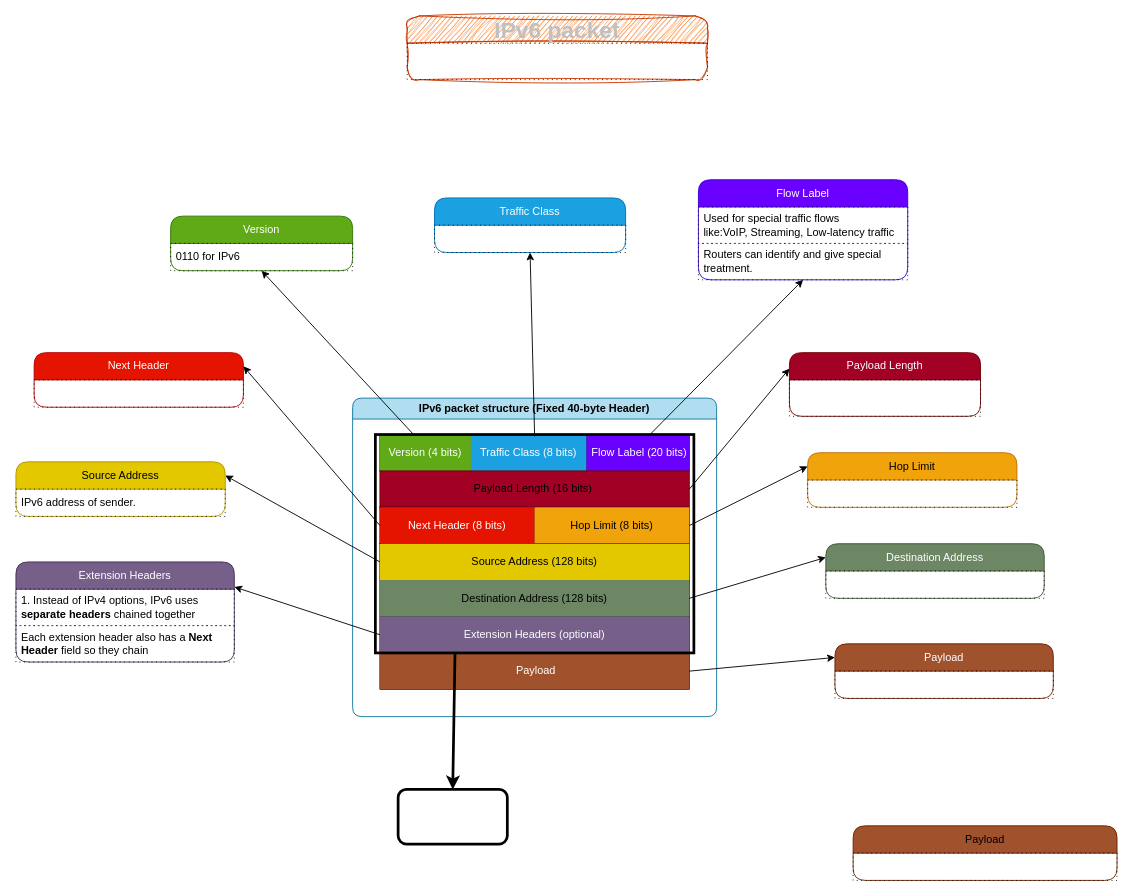
This 1133x896 diagram has some shape labels left out. The centre of each missing label's shape, as x and y in pixels:
"1. IPv6 packet are 40 bytes fixed" belongs at (557,61).
"Equivalent to IPv4 “Protocol” field" belongs at (138,393).
"Find practicals in ipv6.svg" belongs at (984,866).
"IPv6 address of receiver" belongs at (934,584).
"IPv6 packet header (fixed 40 bytes)" belongs at (452,816).
"Same as IPv4" belongs at (943,684).
"Same as IPv4 TTL." belongs at (912,493).
"Size of everything after the IPv6 header" belongs at (885,397).
"Used for QoS." belongs at (530,238).
